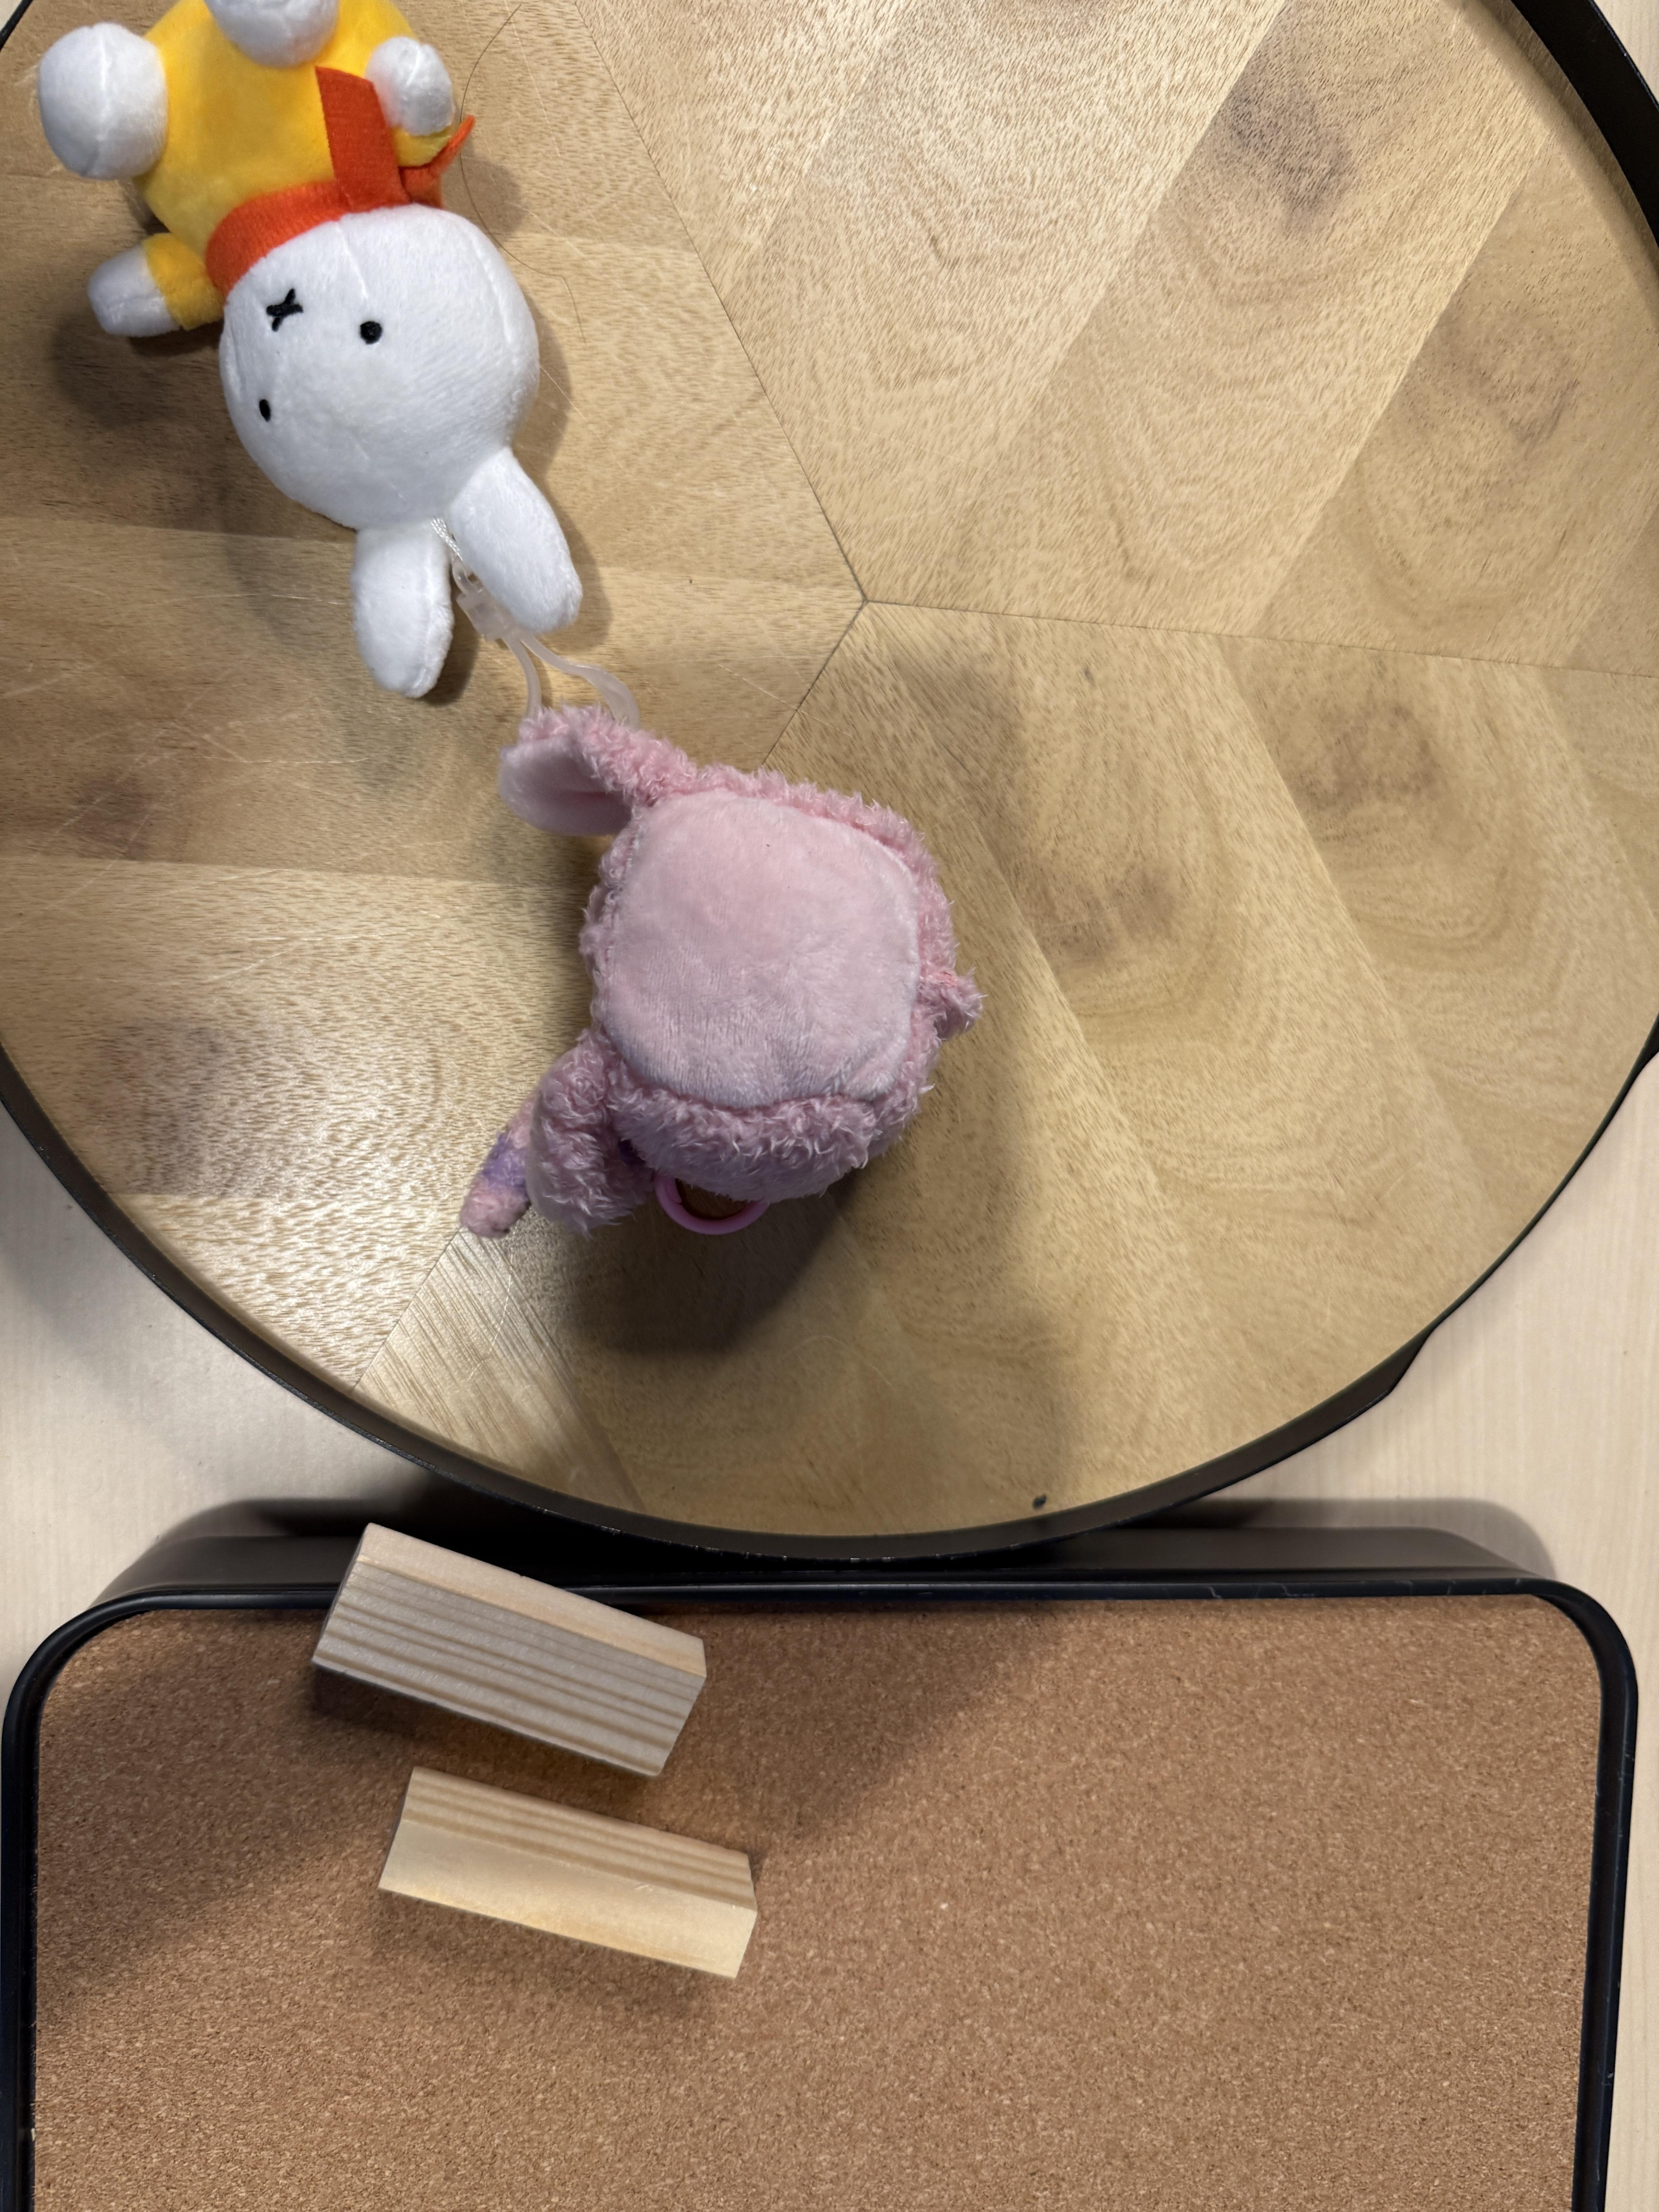block: (307, 1510, 711, 1780), (383, 1763, 762, 1980)
doll: (35, 0, 586, 697), (469, 665, 985, 1242)
